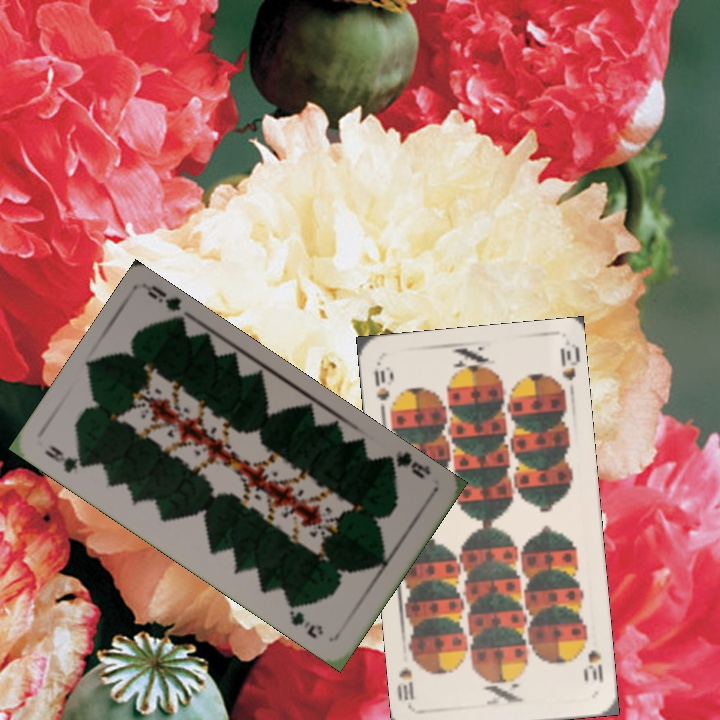G9: (382, 446, 434, 482), (40, 441, 92, 476)
S10: (577, 632, 606, 685), (370, 363, 394, 404)
